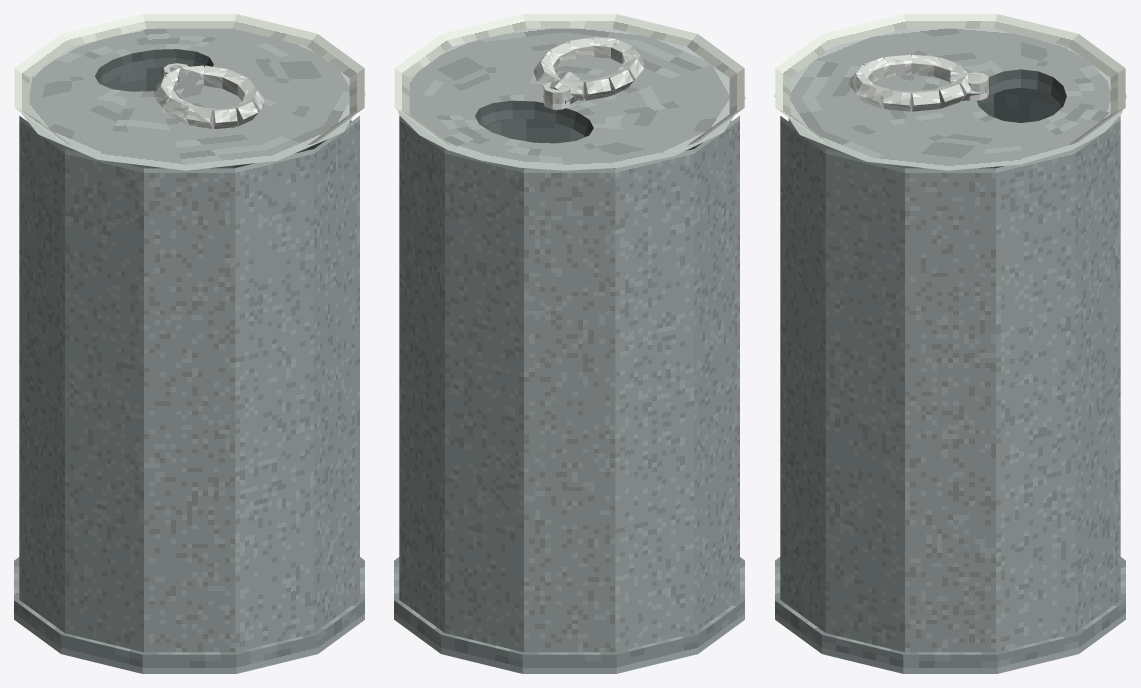
The model's file is can_aluminum_250ml.glb.
The picture shows the model from 3 angles, left to right: view 1: azimuth 30°, elevation 25°; view 2: azimuth 150°, elevation 25°; view 3: azimuth 270°, elevation 25°; orthographic projection.
Parts seen in each view (by area): view 1: block_unprinted aluminum wall, block_open drink lid with actual aperture, block_rolled steel base, block_rolled open rim, block_shadowed drinking aperture rim, block_uncovered empty can interior, block_pull tab hinge, block_raised metal pull ring 4; view 2: block_unprinted aluminum wall, block_open drink lid with actual aperture, block_rolled steel base, block_rolled open rim, block_shadowed drinking aperture rim, block_uncovered empty can interior, block_pull tab rivet, block_raised metal pull ring 7; view 3: block_unprinted aluminum wall, block_open drink lid with actual aperture, block_rolled steel base, block_rolled open rim, block_uncovered empty can interior, block_shadowed drinking aperture rim, block_raised metal pull ring 11, block_raised metal pull ring 0.
Part boxes in pixels (x1,y1,x2,y2): block_unprinted aluminum wall: (19, 115, 359, 652); block_open drink lid with actual aperture: (14, 28, 365, 170); block_rolled steel base: (14, 557, 364, 673); block_rolled open rim: (14, 14, 364, 145); block_shadowed drinking aperture rim: (95, 49, 213, 85); block_uncovered empty can interior: (56, 67, 351, 168); block_pull tab hinge: (169, 64, 203, 98); block_raised metal pull ring 4: (186, 106, 213, 128); block_unprinted aluminum wall: (399, 115, 739, 652); block_open drink lid with actual aperture: (394, 28, 745, 170); block_rolled steel base: (394, 557, 744, 673); block_rolled open rim: (394, 14, 744, 145); block_shadowed drinking aperture rim: (475, 100, 593, 136); block_uncovered empty can interior: (444, 118, 731, 168); block_pull tab rivet: (543, 82, 570, 109); block_raised metal pull ring 7: (584, 77, 611, 100); block_unprinted aluminum wall: (780, 116, 1120, 652); block_open drink lid with actual aperture: (774, 28, 1126, 170); block_rolled steel base: (775, 557, 1125, 673); block_rolled open rim: (775, 14, 1125, 145); block_uncovered empty can interior: (788, 88, 1075, 168); block_shadowed drinking aperture rim: (977, 69, 1066, 107); block_raised metal pull ring 11: (911, 89, 940, 111); block_raised metal pull ring 0: (883, 89, 911, 111).
Size of the model in its own units: 0.066 by 0.1091 by 0.066.
1 material, 1 textured.
